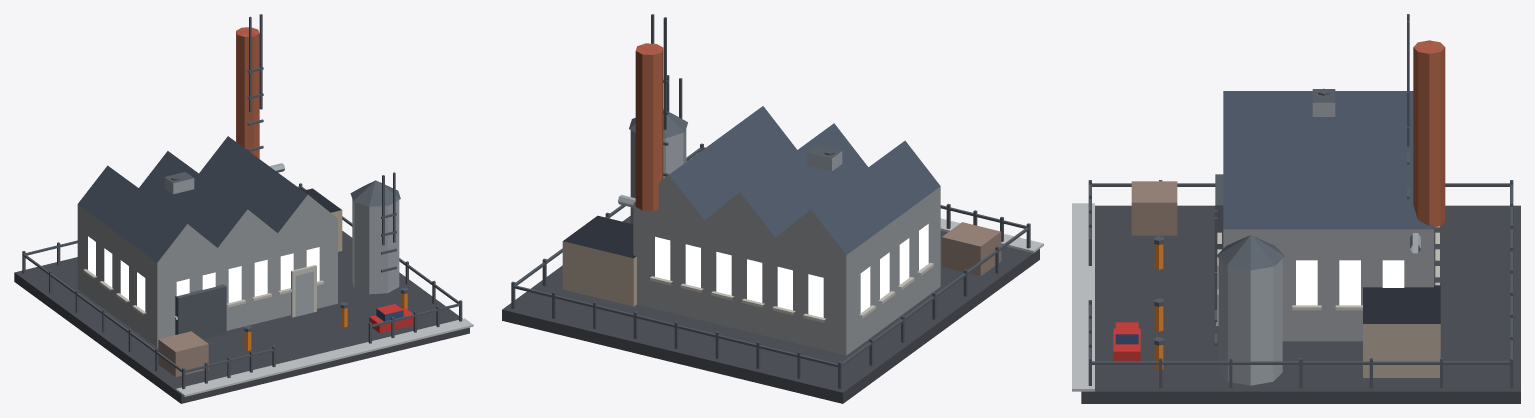
3 renders of one model, left to right at view 1: azimuth 30°, elevation 25°; view 2: azimuth 150°, elevation 25°; view 3: azimuth 270°, elevation 25°, orthographic. The views are drawn at different scales.
Parts seen in each view (by area): view 1: b37_v2; view 2: b37_v2; view 3: b37_v2.
Part boxes in pixels (<box>): b37_v2: <box>14,14,473,403</box>; b37_v2: <box>502,14,1043,403</box>; b37_v2: <box>1072,14,1520,403</box>.
Bounding box in the file's own units: 0.96 × 0.79 × 0.98.
